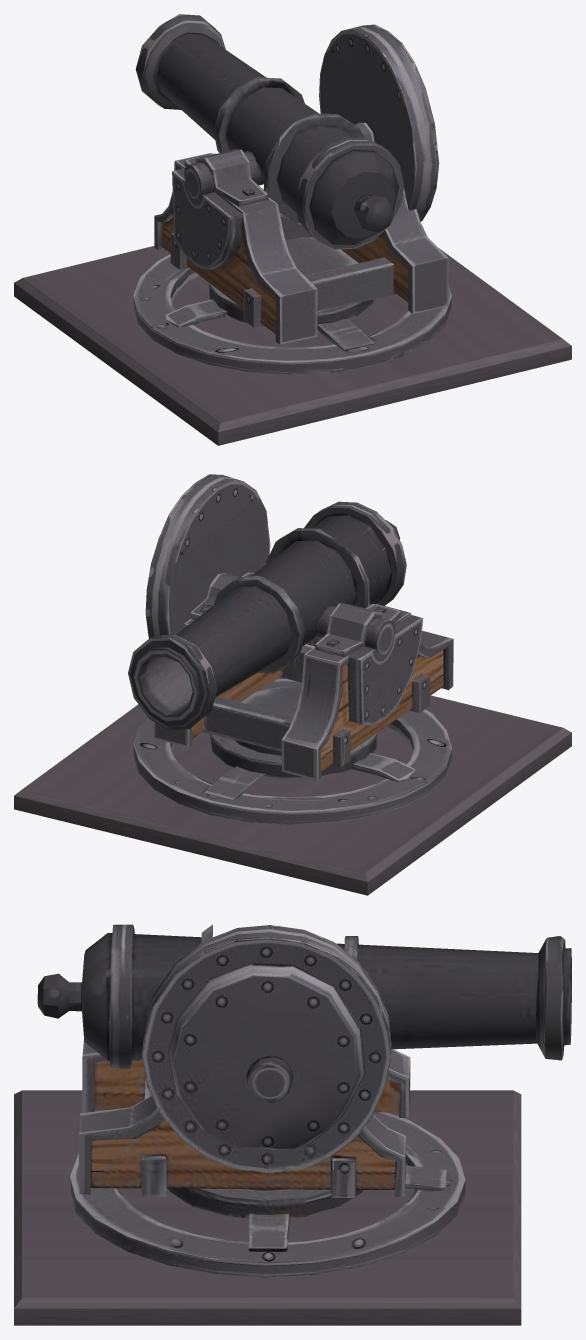
The model's file is cannon22a.glb.
3 views of the same model, one above another, from view 1: azimuth 30°, elevation 25°; view 2: azimuth 150°, elevation 25°; view 3: azimuth 270°, elevation 25° (orthographic). The views are drawn at different scales.
Parts seen in each view (by area): view 1: mount, plate, barrel; view 2: mount, plate, barrel; view 3: mount, plate, barrel.
Part boxes in pixels (bbox=[...]): mount: bbox=[133, 24, 451, 374]; plate: bbox=[14, 246, 571, 445]; barrel: bbox=[135, 14, 404, 249]; mount: bbox=[133, 474, 453, 824]; plate: bbox=[14, 677, 571, 895]; barrel: bbox=[128, 501, 406, 730]; mount: bbox=[70, 925, 465, 1277]; plate: bbox=[14, 1090, 521, 1325]; barrel: bbox=[37, 924, 571, 1068].
Bounding box in the file's own units: 1.9 × 1.4 × 2.09.
Materials: 2 (2 with a texture image).
